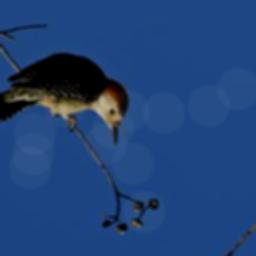Woodpecker: (0, 51, 143, 150)
